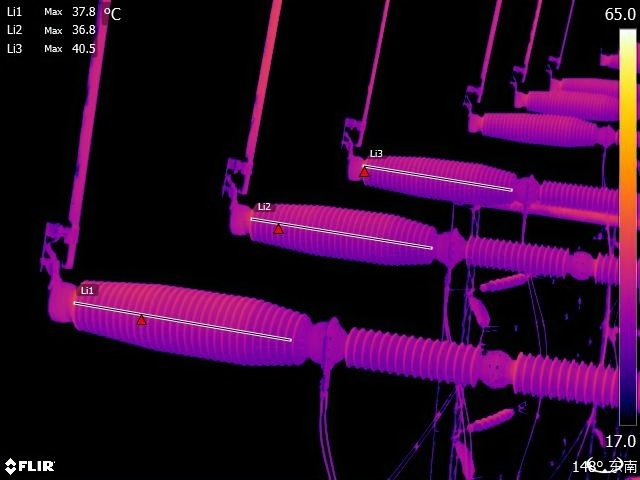circuit breaker: (31, 252, 619, 415), (223, 178, 616, 295), (339, 136, 616, 230), (463, 102, 618, 157), (510, 81, 619, 123), (538, 73, 619, 101)
